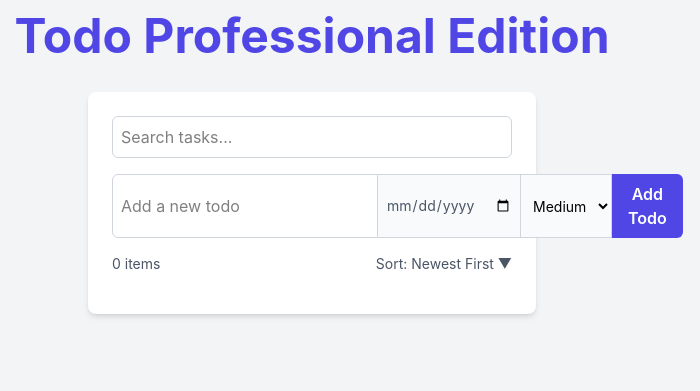
Scenario: App › allows users to add a todo
The width and height of the screenshot is (700, 391).
Type "Learn Vitest" into the field with placeholder "Add a new todo".
click(245, 206); type("Learn Vitest")  # box [112,174,378,238]
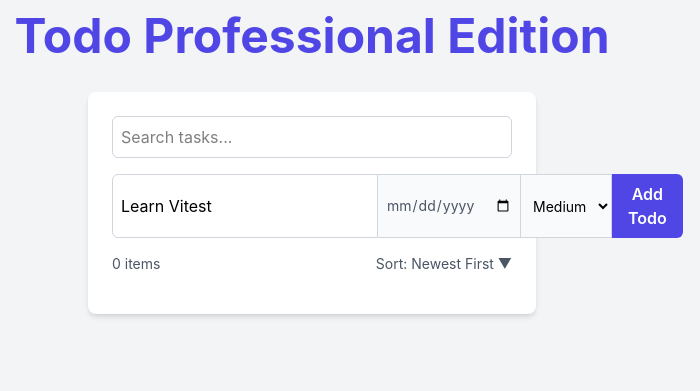
Click the button "Add Todo".
click(647, 206)  # box [612,174,683,238]
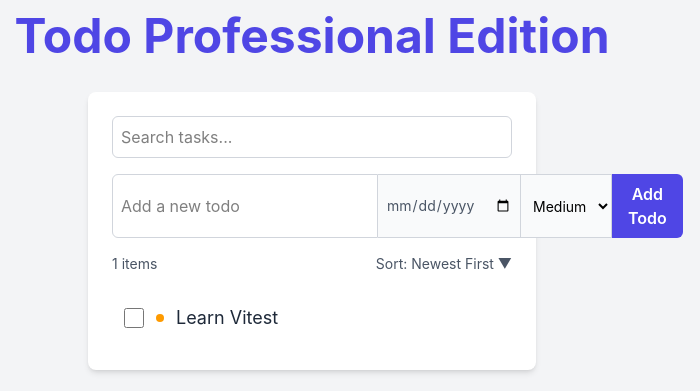
Expected: the text "Learn Vitest" is shown, [176,304,278,332]
Expected: the field with placeholder "Add a new todo" is empty, [112,174,378,238]
